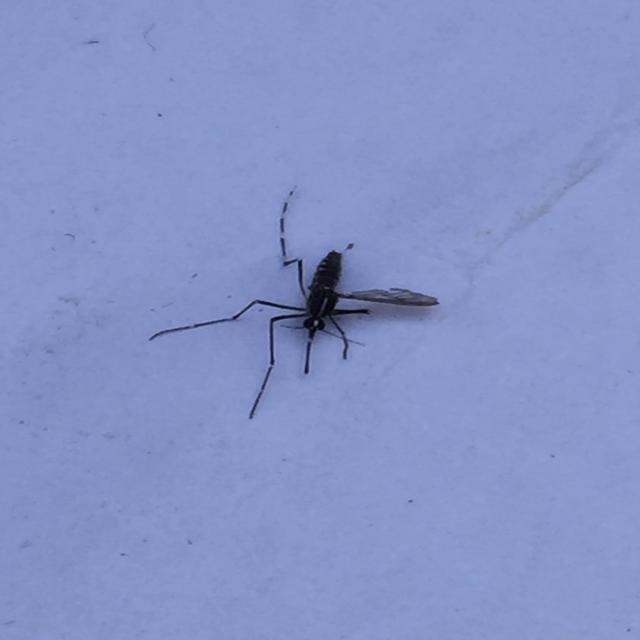albopictus: (142, 177, 436, 421)
